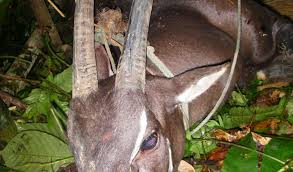sao_la: (65, 1, 229, 170)
